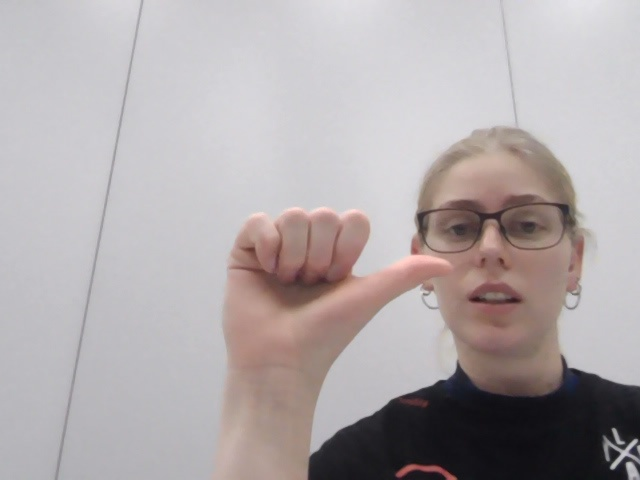left: (210, 200, 459, 449)
